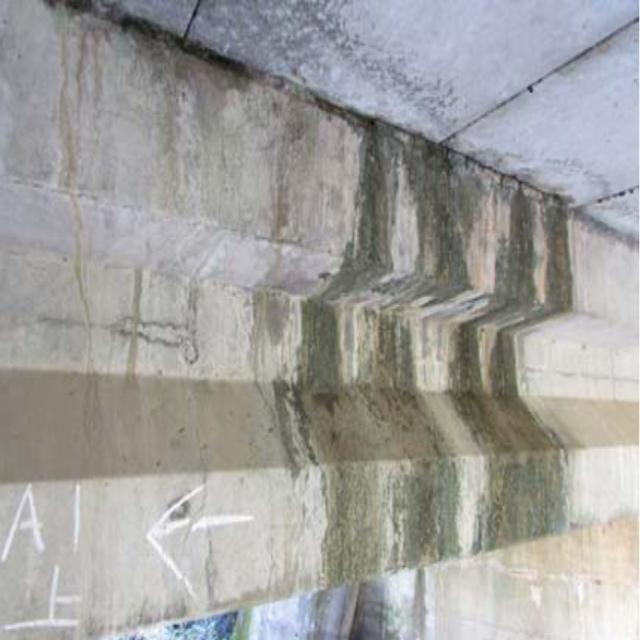leakage: (301, 83, 573, 571)
